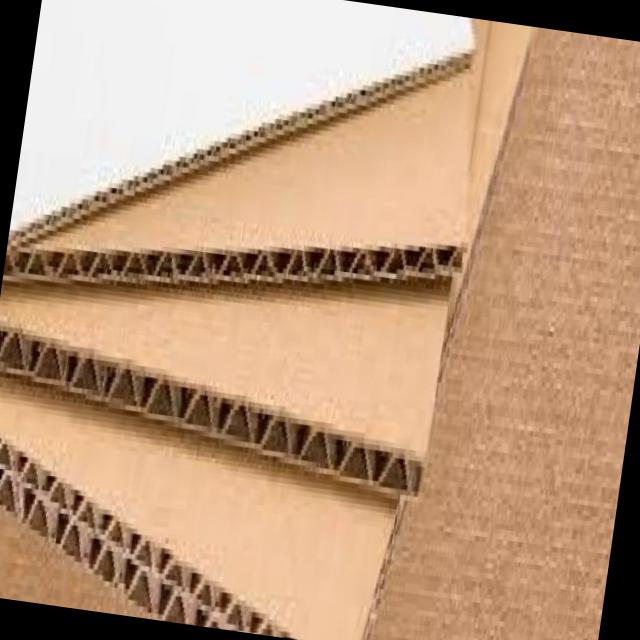cardboard paper: (0, 18, 531, 640), (369, 27, 640, 640)
